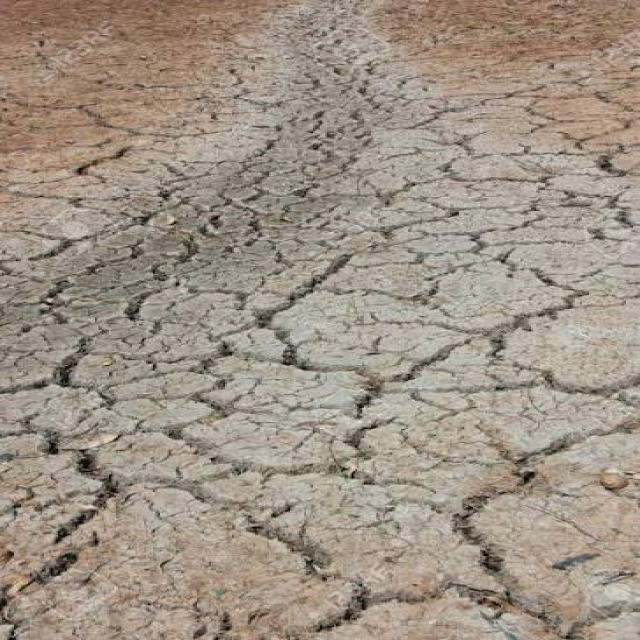suelo_seco: (196, 199, 575, 601)
